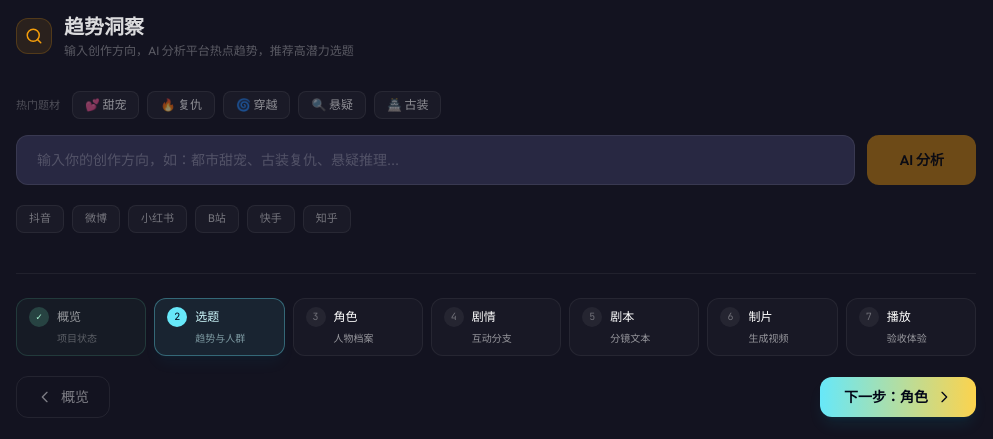
Test: ProphetPanel › 交互测试 › clicking suggestion sets query
Click the button "💕 甜宠": {"x": 106, "y": 105} [72,91,140,119]
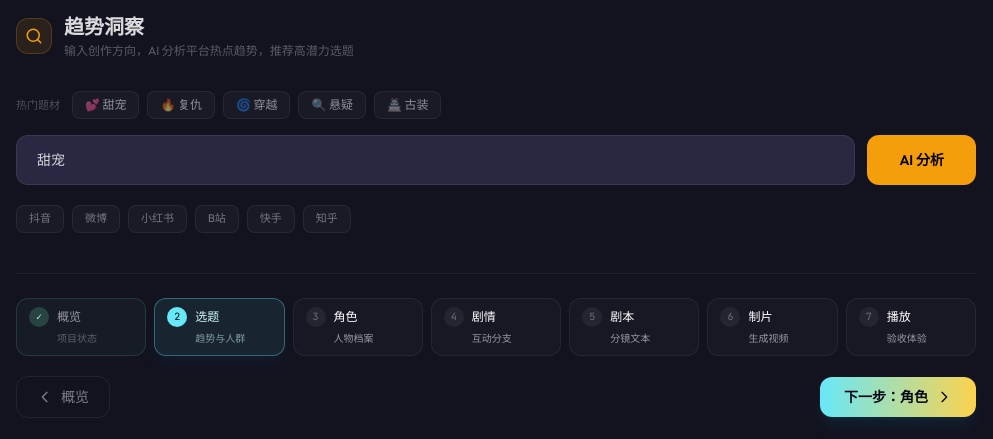
Expected: the field with placeholder "输入你的创作方向，如：都市甜宠、古装复仇、悬疑推理..." holds "甜宠", [16,135,855,185]
